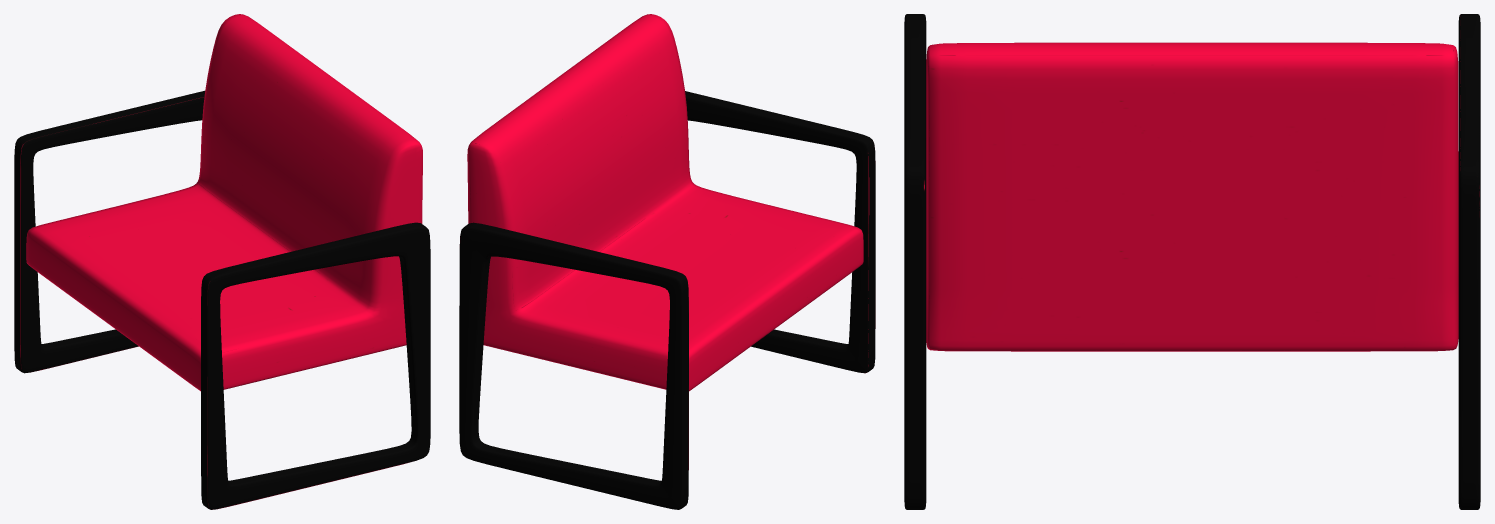
The picture shows the model from 3 angles, left to right: view 1: azimuth 30°, elevation 25°; view 2: azimuth 150°, elevation 25°; view 3: azimuth 270°, elevation 25°; orthographic projection. The views are drawn at different scales.
Parts seen in each view (by area): view 1: Plane.007_Plane.006; view 2: Plane.007_Plane.006; view 3: Plane.007_Plane.006.
Boxes of the visible parts, box(x1,y1,x2,y2) form: Plane.007_Plane.006: box(14, 14, 430, 509); Plane.007_Plane.006: box(459, 14, 875, 509); Plane.007_Plane.006: box(904, 14, 1480, 509).
Size of the model in its own units: 9.47 by 12.46 by 14.04.
1 material, 1 textured.
